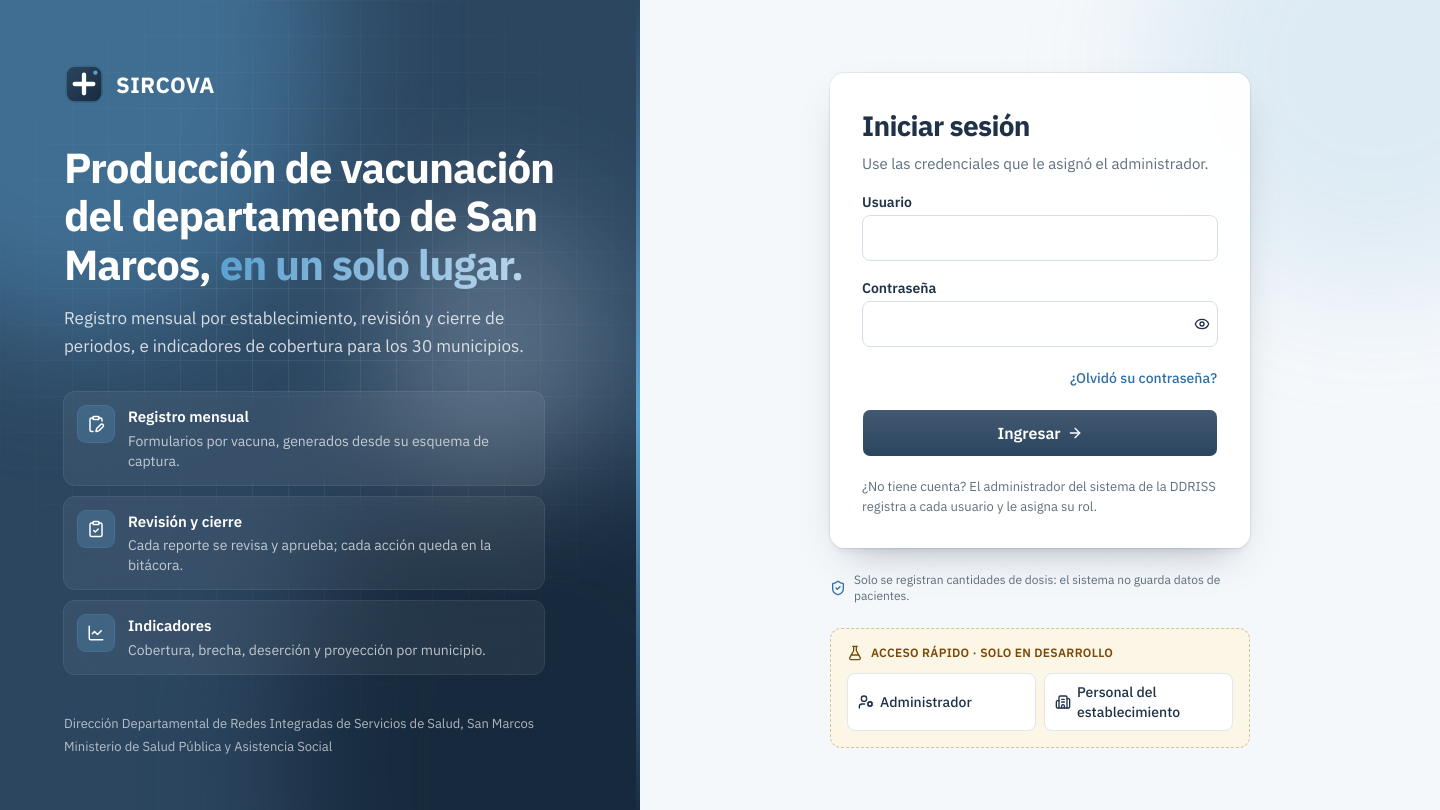
Test case: con una respuesta correcta se guarda la sesión y se muestra /inicio
Expected: the heading "Iniciar sesión" is shown, [862,107,1030,144]
Type "jperez" into the field labelled "Usuario".
click(1040, 238); type("jperez")  # box [862,215,1218,261]
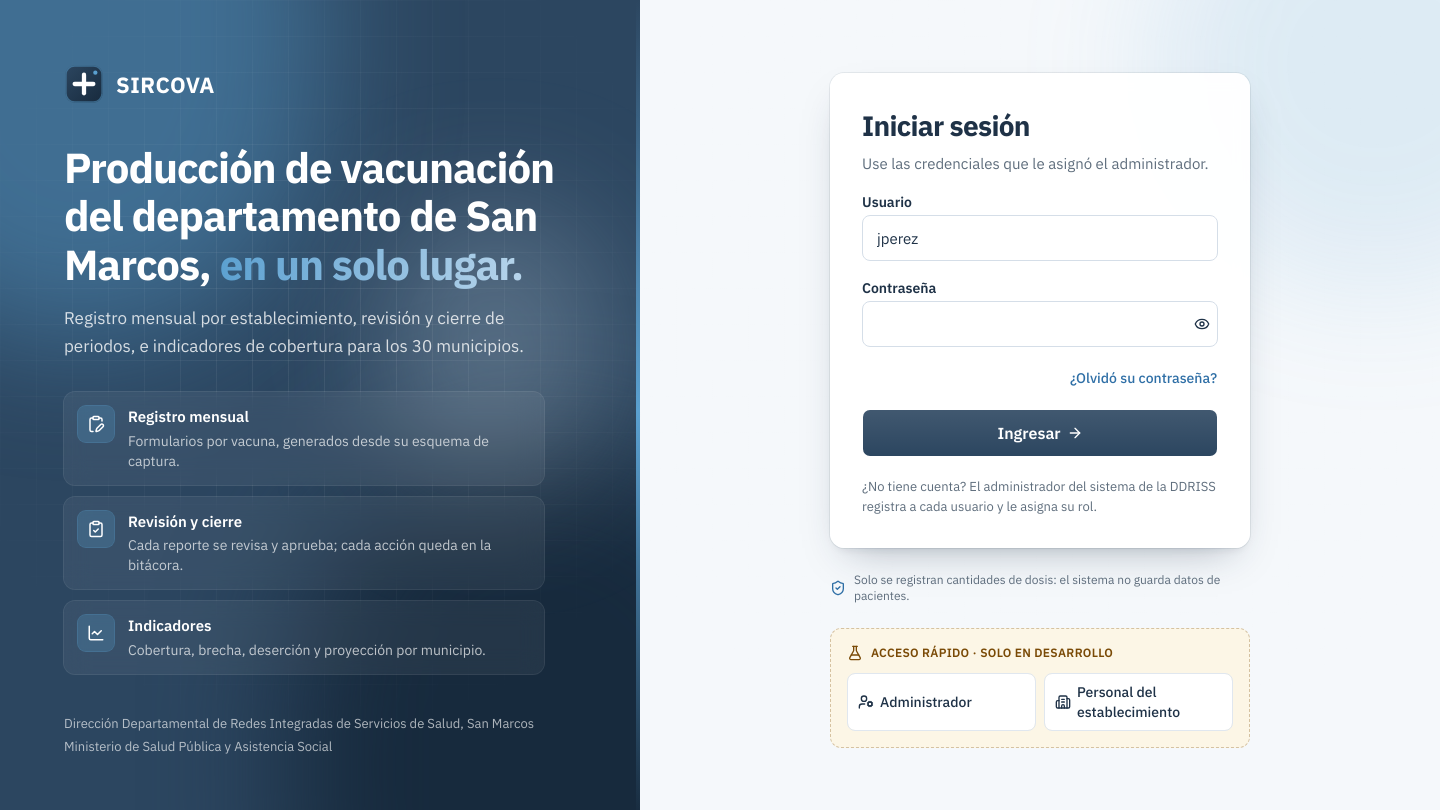
Type "secreta123" into the password field labelled "Contraseña".
click(1040, 324); type("secreta123")  # box [862,301,1218,347]
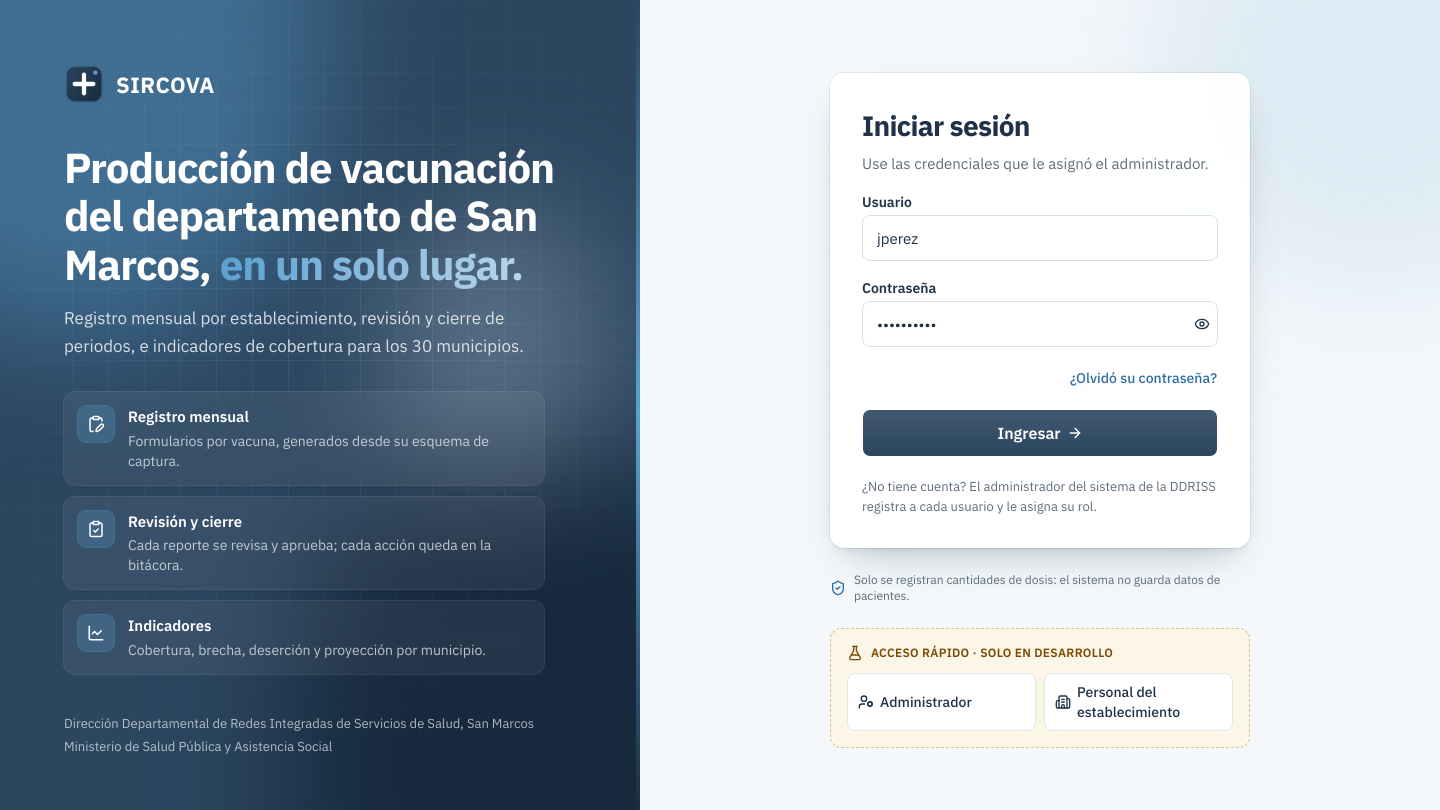
Click the button "Ingresar".
click(1040, 433)  # box [862,409,1218,457]
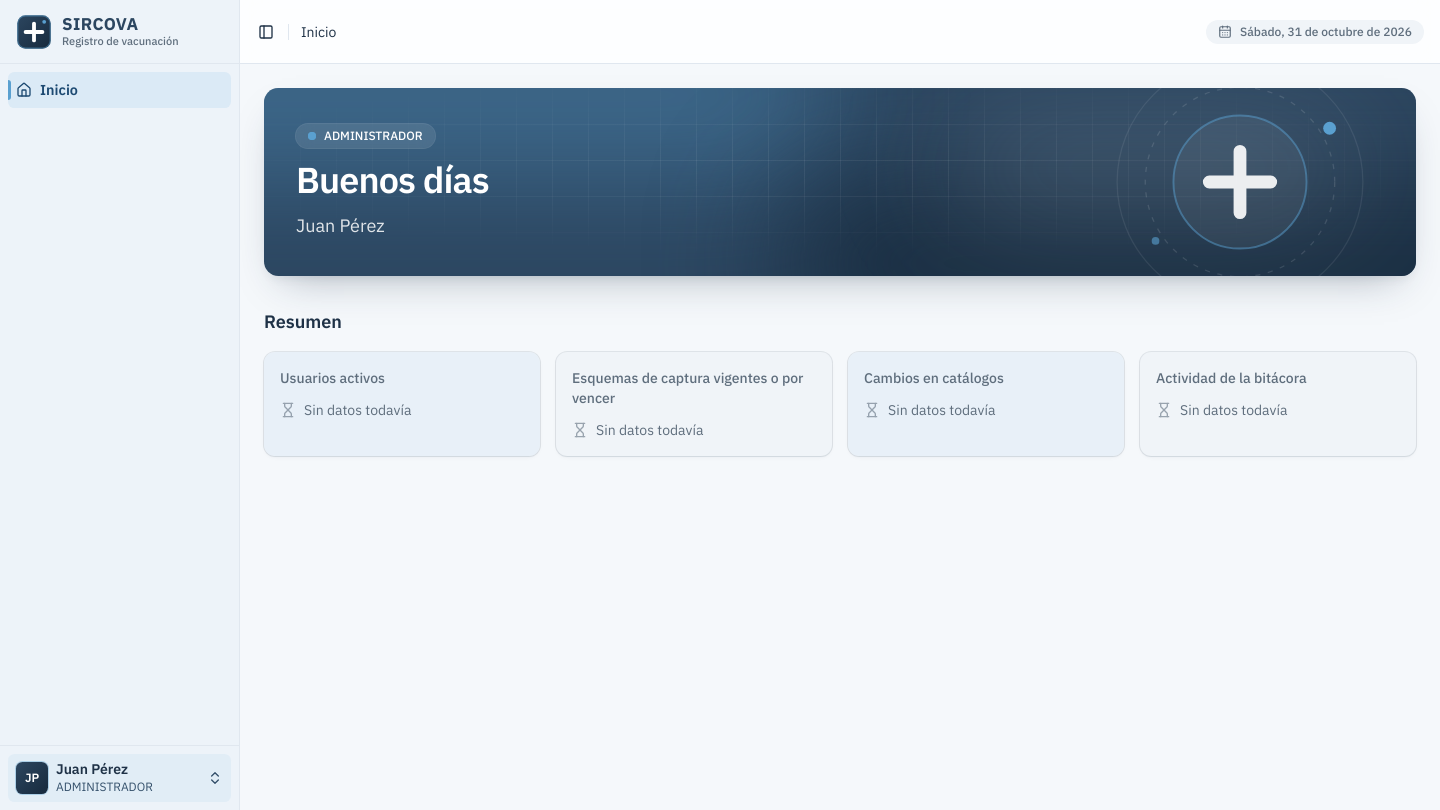
Expected: the text "Usuarios activos" is shown, [280,369,385,387]
